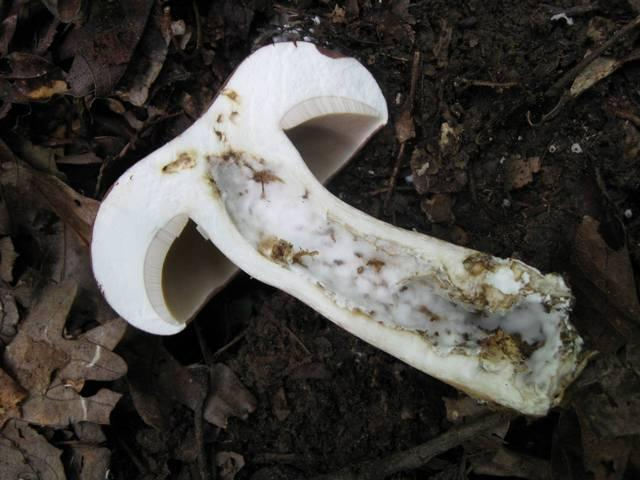poisonous_mushroom: (88, 37, 593, 418)
